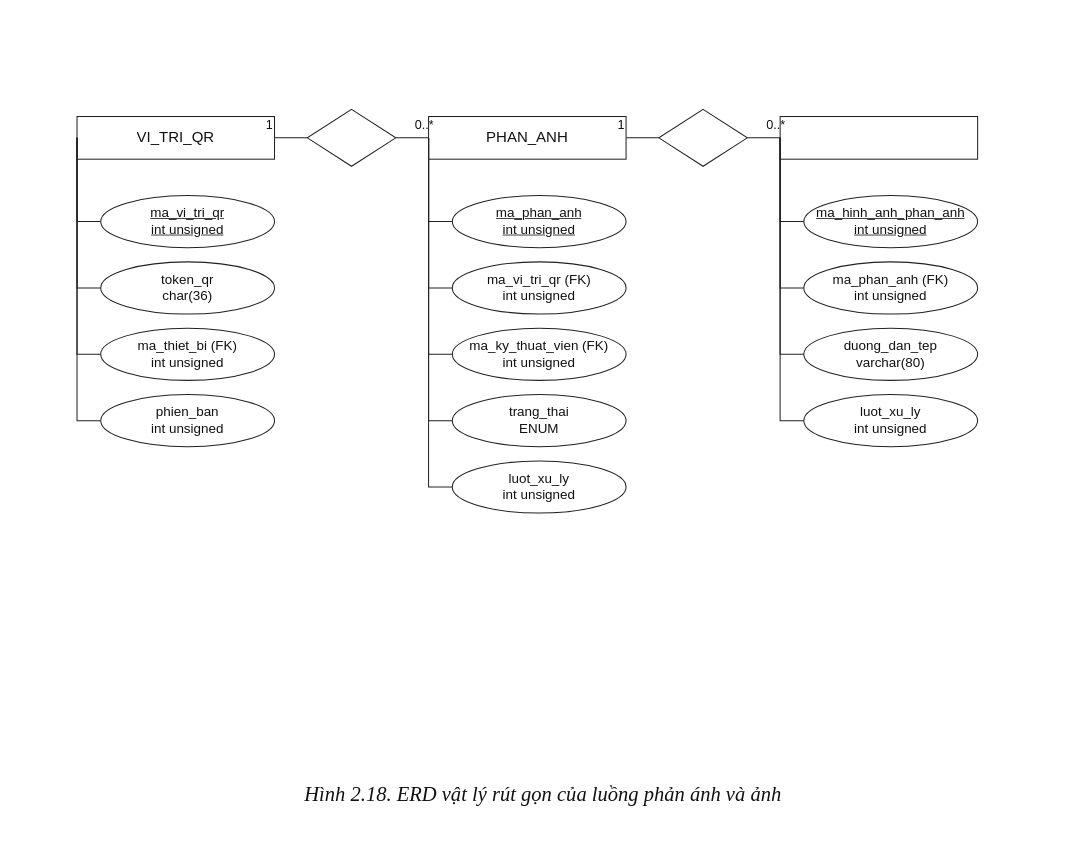
The diagram is 1085 pixels wide and 848 high, and some of its shapes have lost their labels. Each missing label, with the centre of its shape:
có ảnh: (702,137)
HINH_ANH_PHAN_ANH: (878,137)
tiếp nhận: (351,137)
